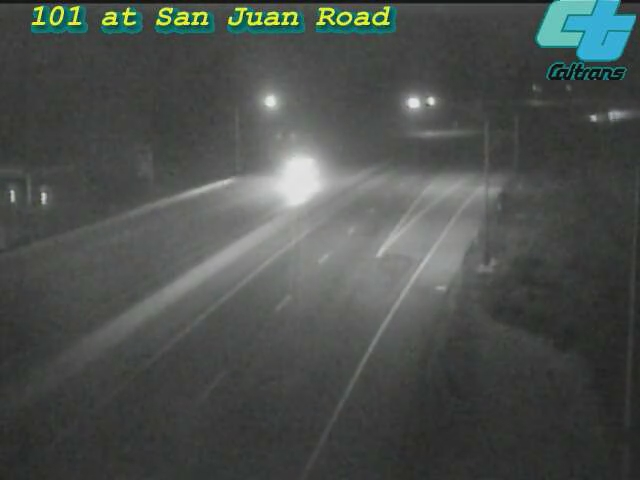vehicle: (256, 138, 336, 218), (591, 90, 640, 140)
